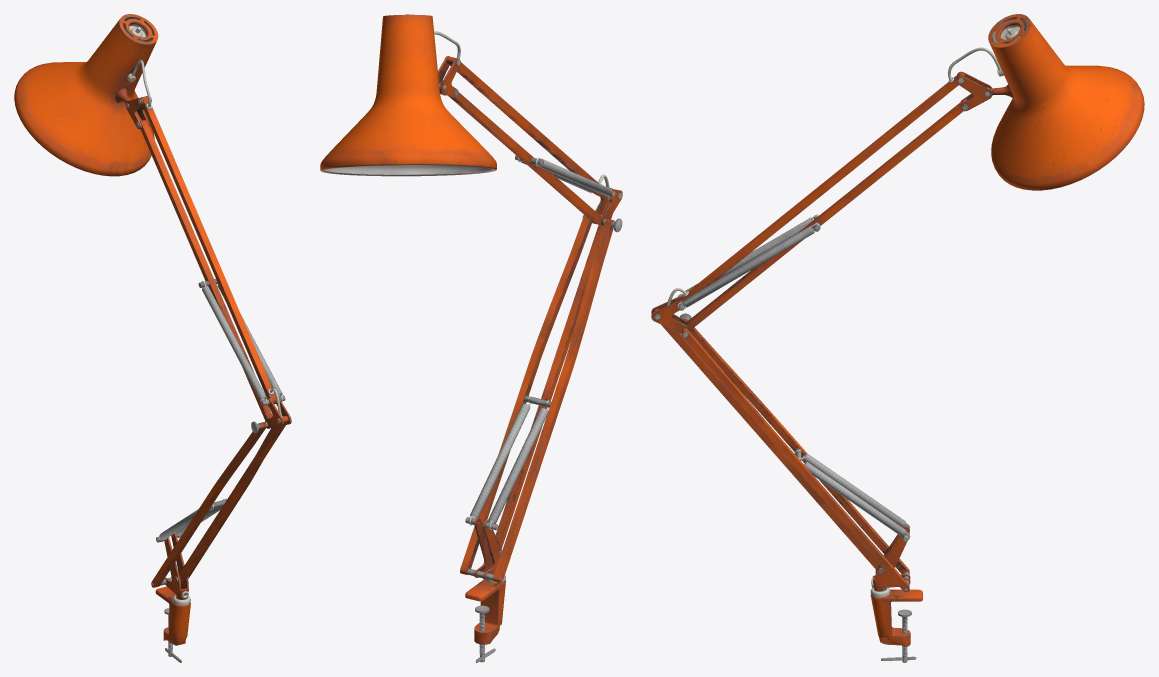
File: desk_lamp_arm_01.glb
The picture shows the model from 3 angles, left to right: view 1: azimuth 30°, elevation 25°; view 2: azimuth 150°, elevation 25°; view 3: azimuth 270°, elevation 25°; orthographic projection. The views are drawn at different scales.
Visible parts, largest first — view 1: desk_lamp_arm_01; view 2: desk_lamp_arm_01; view 3: desk_lamp_arm_01.
Part boxes in pixels (bbox=[...]): desk_lamp_arm_01: bbox=[14, 14, 291, 662]; desk_lamp_arm_01: bbox=[320, 14, 622, 662]; desk_lamp_arm_01: bbox=[651, 14, 1144, 662].
Bounding box in the file's own units: 0.2017 × 0.8926 × 0.6139.
Materials: 2 (2 with a texture image).
